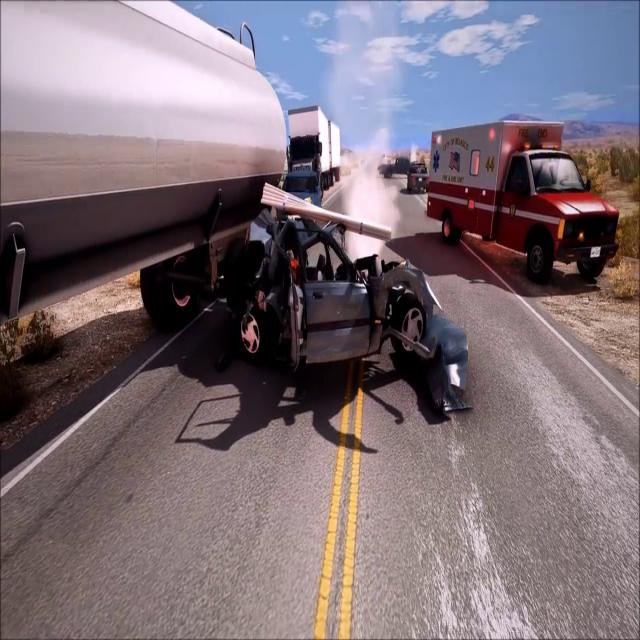accident: (151, 174, 471, 398)
